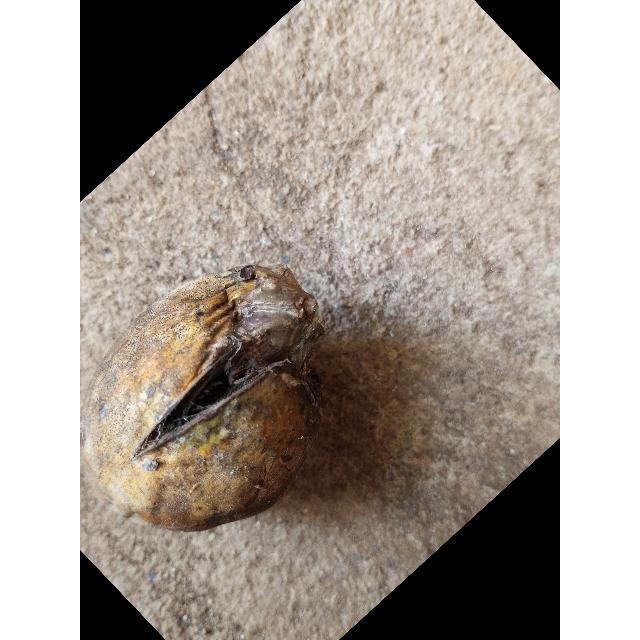damaged: (84, 267, 370, 548)
